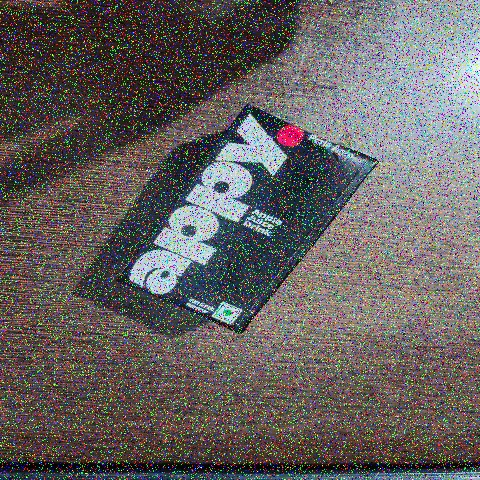appy: (96, 84, 382, 371)
